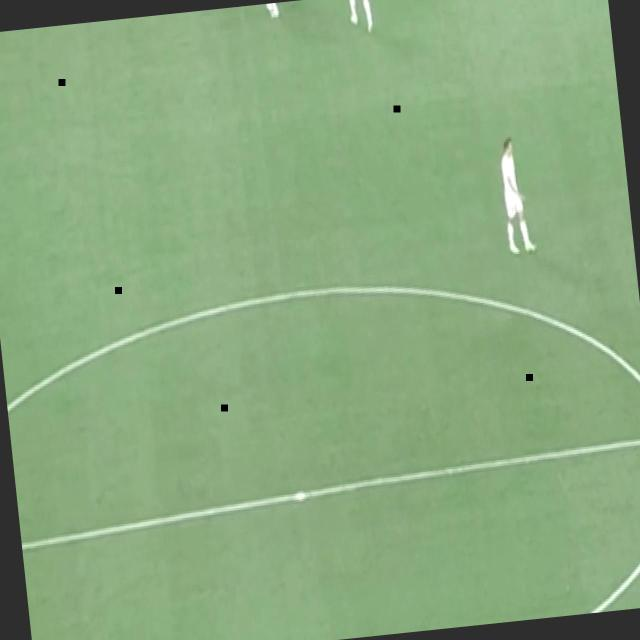player-white: (496, 134, 538, 257), (347, 0, 375, 34), (259, 2, 284, 22)
